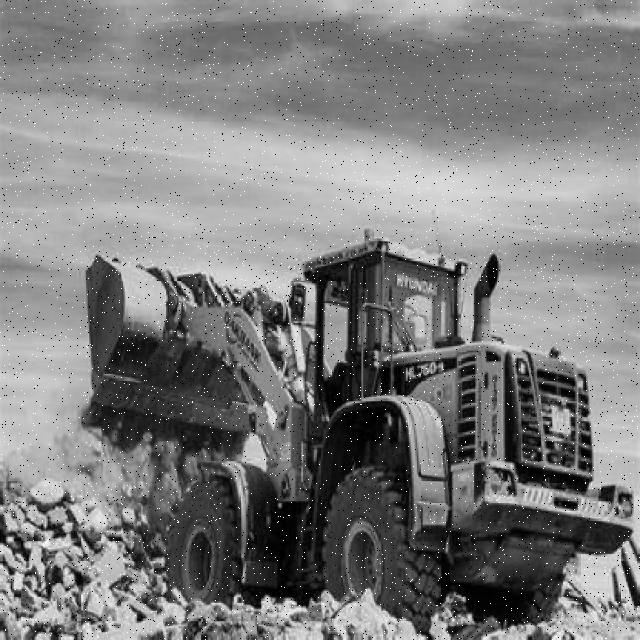Construction Equipment: (81, 228, 635, 640)
